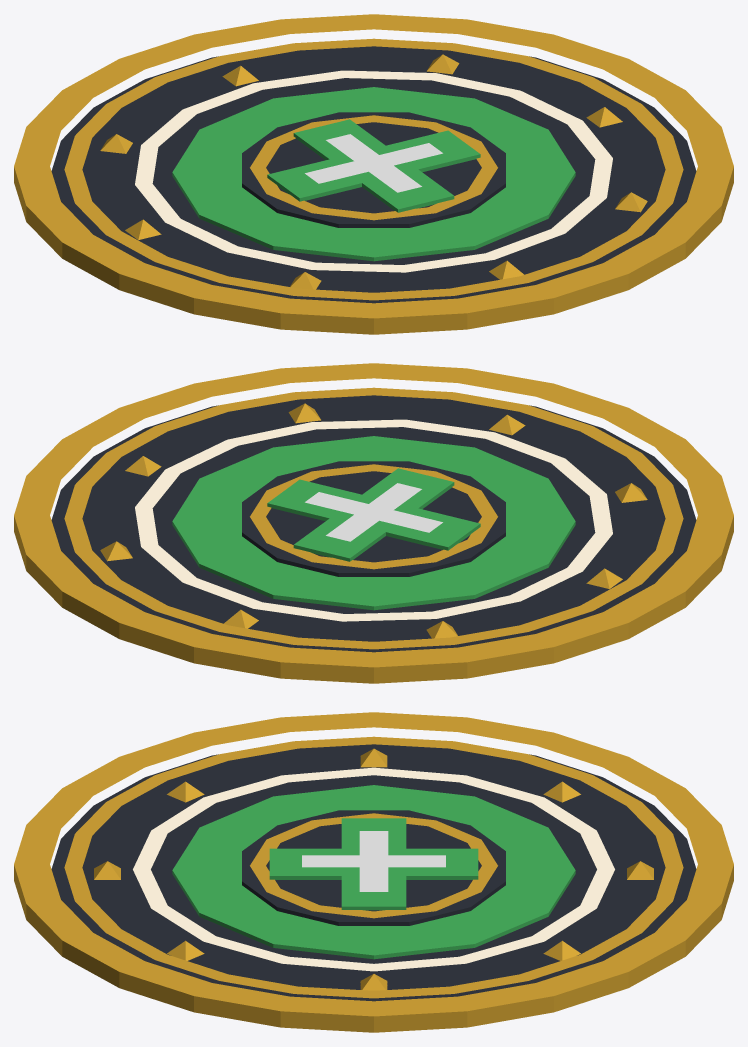
The model's file is medic_legend_area.glb.
The picture shows the model from 3 angles, top to bottom: view 1: azimuth 30°, elevation 25°; view 2: azimuth 150°, elevation 25°; view 3: azimuth 270°, elevation 25°; orthographic projection.
Visible parts, largest first — view 1: medic_legend_area; view 2: medic_legend_area; view 3: medic_legend_area.
Part boxes in pixels (bbox=[...]): medic_legend_area: bbox=[14, 14, 733, 334]; medic_legend_area: bbox=[14, 363, 733, 683]; medic_legend_area: bbox=[14, 712, 733, 1032].
Bounding box in the file's own units: 2 × 0.06 × 2.
2 materials, 2 textured.
